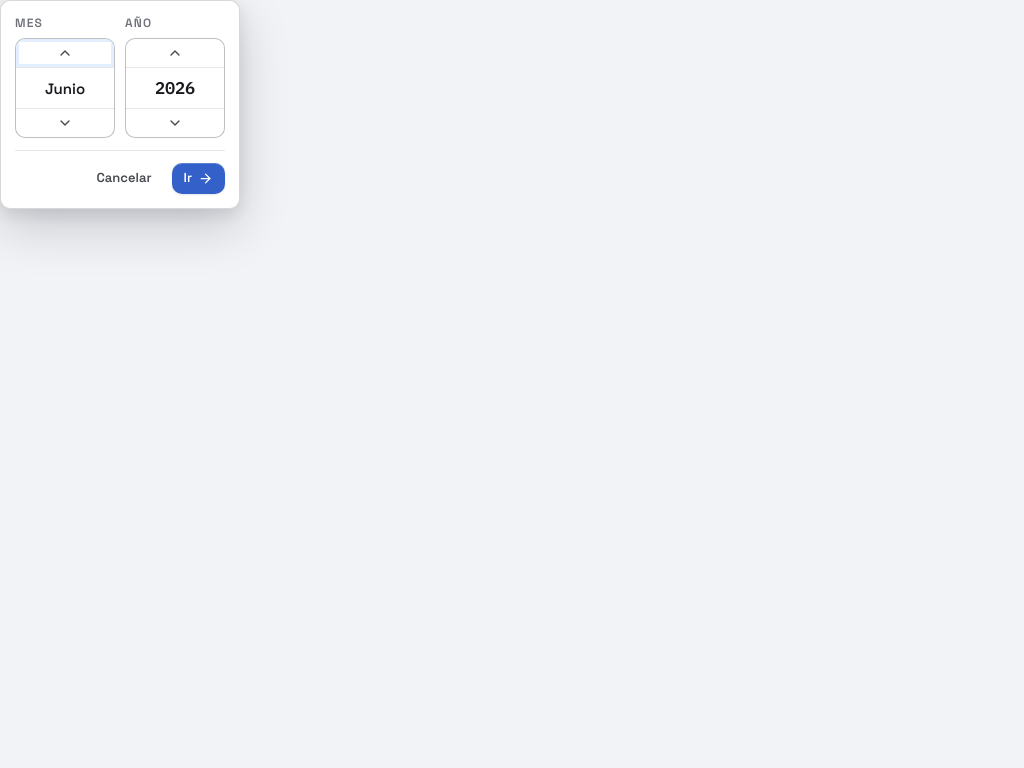
Test: MonthJumpPanel › ▲ del año incrementa el año en 1
Expected: the dialog is shown, [0, 0, 240, 209]
Click the button named "Año siguiente": click(175, 53) [126, 39, 224, 67]
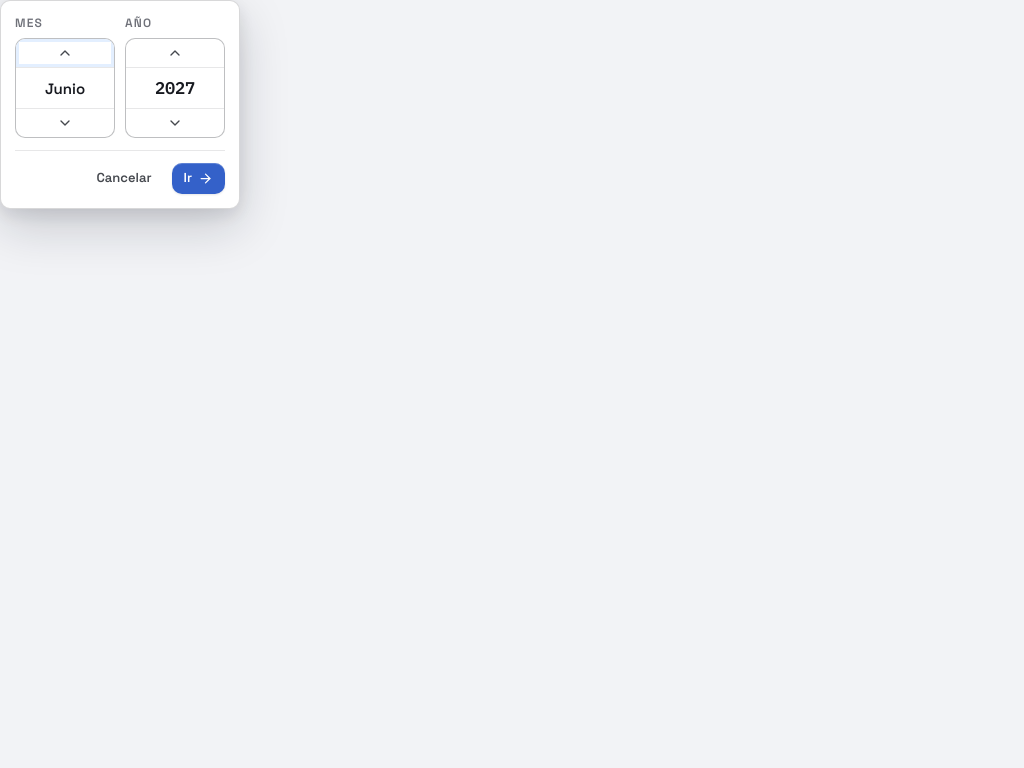
Expected: the field named "Año" holds "2027", [126, 68, 224, 108]
